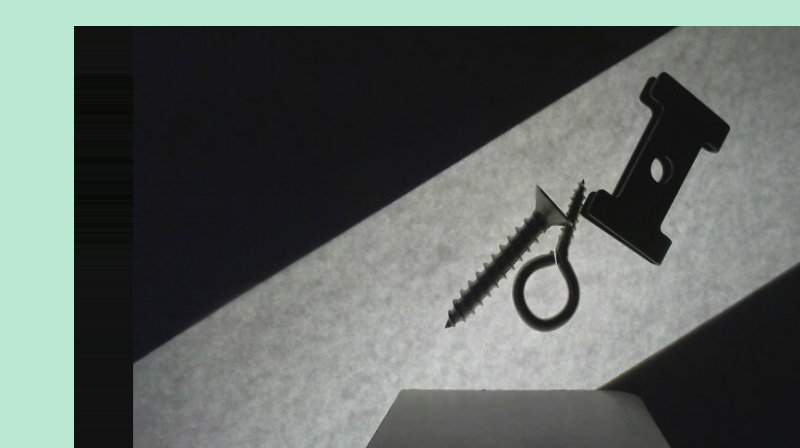O001: (510, 177, 584, 335)
O002: (580, 68, 732, 264)
S001: (443, 183, 570, 329)
